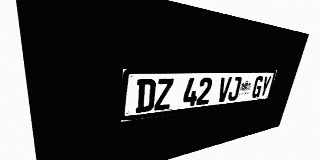2: (196, 77, 213, 105)
4: (182, 78, 200, 107)
D: (135, 79, 156, 113)
G: (251, 76, 264, 98)
J: (227, 77, 242, 101)
V: (216, 77, 232, 103)
Y: (259, 76, 272, 97)
Z: (154, 78, 174, 111)
